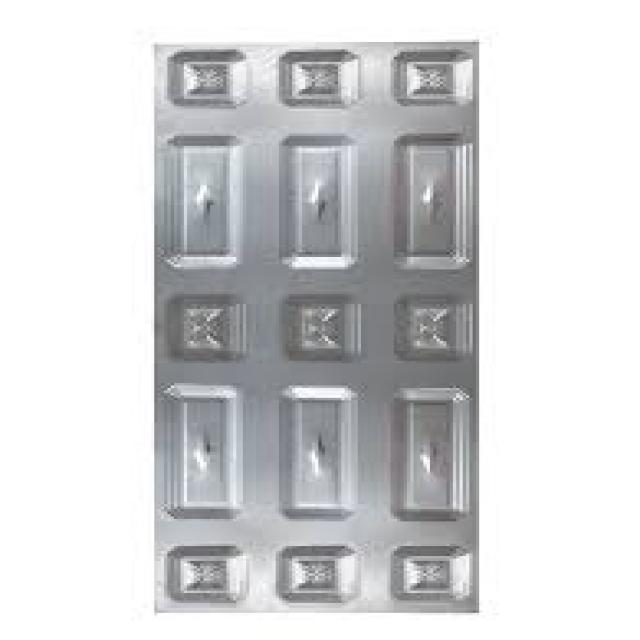door: (152, 41, 480, 614)
